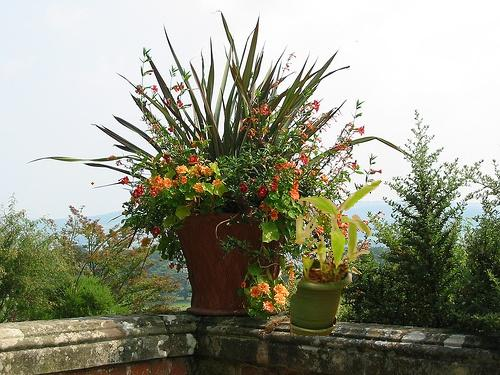tampered: (92, 181, 382, 336)
